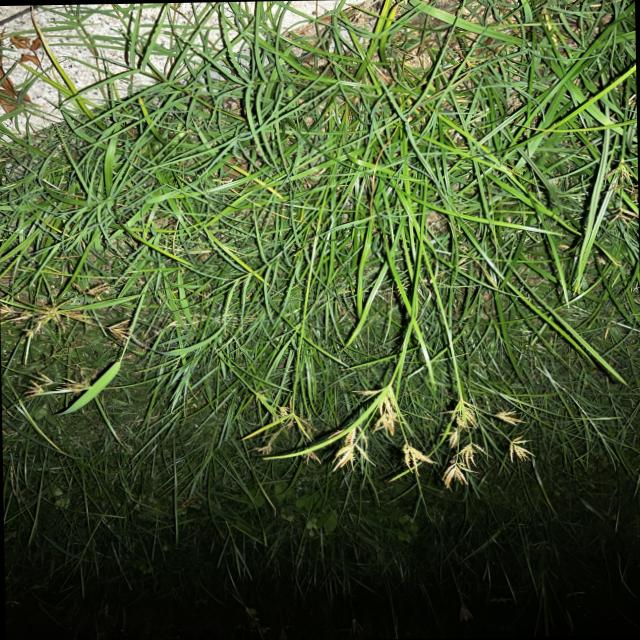cyperus: (326, 382, 438, 484), (434, 399, 540, 493), (0, 281, 133, 347), (252, 408, 326, 469), (16, 362, 102, 407)
